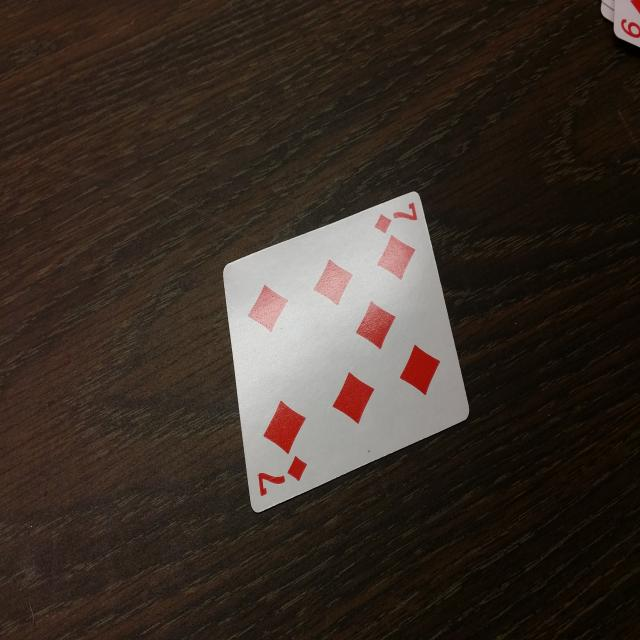7d: (251, 440, 310, 510), (371, 197, 420, 245)
